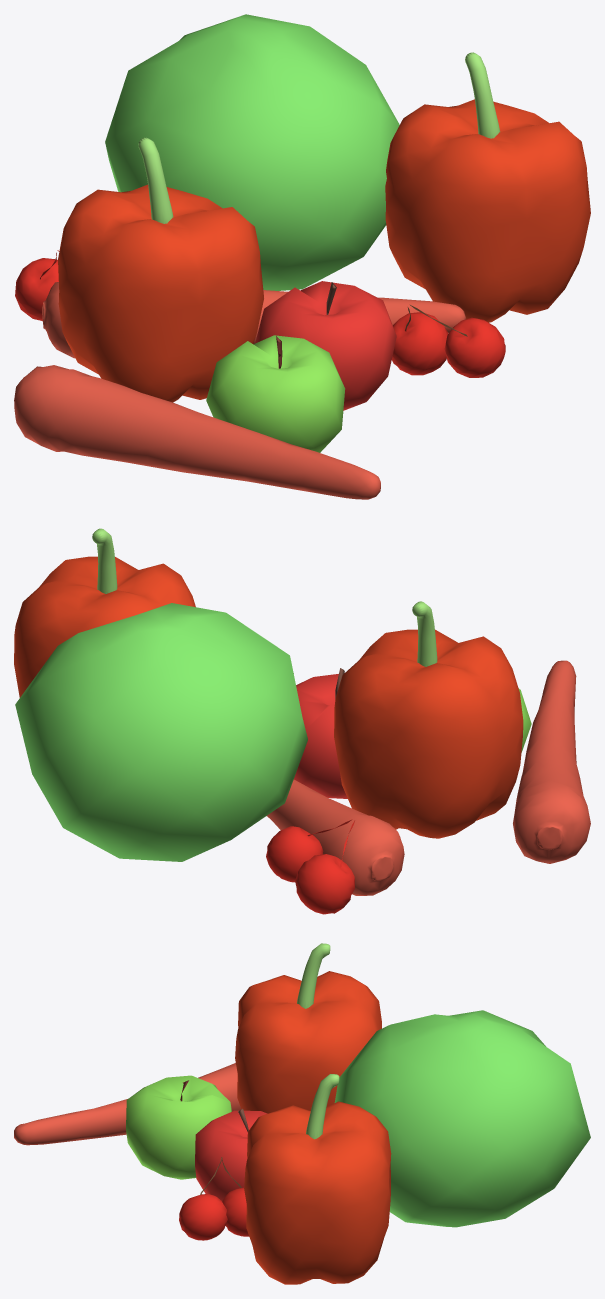
Rendered from buabua.glb.
3 renders of one model, top to bottom at view 1: azimuth 30°, elevation 25°; view 2: azimuth 150°, elevation 25°; view 3: azimuth 270°, elevation 25°, orthographic. The views are drawn at different scales.
Parts seen in each view (by area): view 1: cabbage; view 2: cabbage; view 3: cabbage.
Part boxes in pixels (bbox=[...]): cabbage: bbox=[14, 14, 590, 499]; cabbage: bbox=[14, 528, 590, 914]; cabbage: bbox=[14, 943, 590, 1284].
Size of the model in its own units: 6.95 by 3.05 by 7.61.
